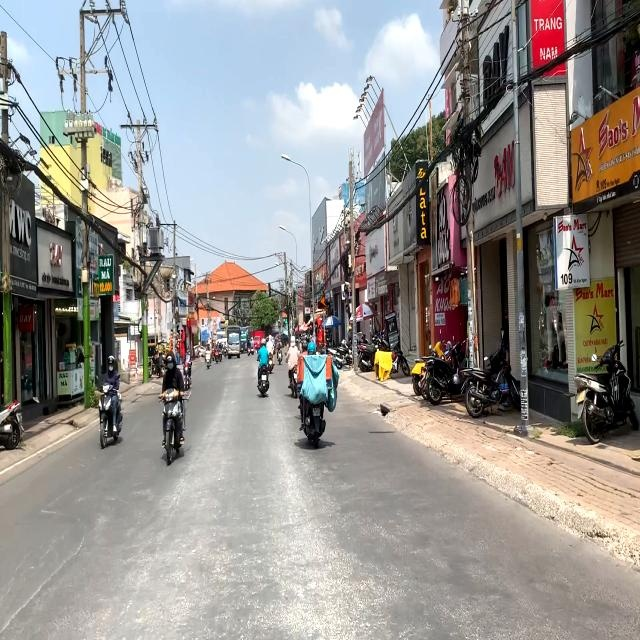bien_nguy_hiem: (318, 295, 328, 309)
